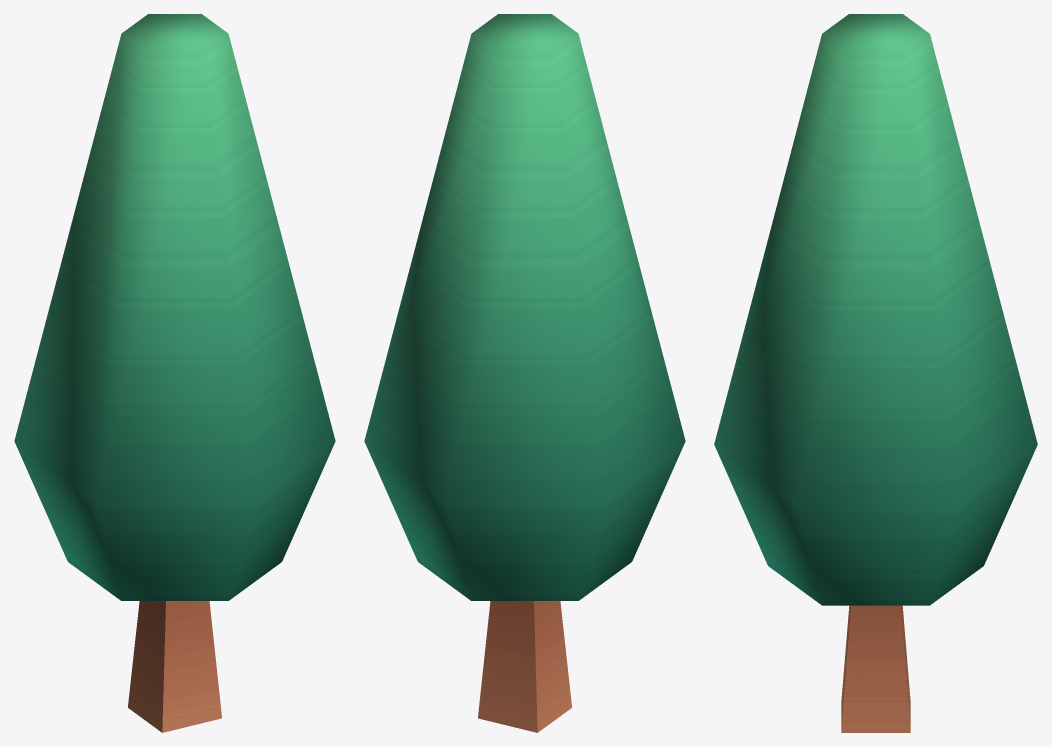
The model's file is tree-small.glb.
3 renders of one model, left to right at view 1: azimuth 30°, elevation 25°; view 2: azimuth 150°, elevation 25°; view 3: azimuth 270°, elevation 25°, orthographic.
Visible parts, largest first — view 1: tree-small; view 2: tree-small; view 3: tree-small.
Boxes of the visible parts, <box> form: tree-small: <box>14,14,335,732</box>; tree-small: <box>364,14,685,732</box>; tree-small: <box>714,14,1037,732</box>.
Bounding box in the file's own units: 0.2104 × 0.567 × 0.243.
Materials: 1 (1 with a texture image).
